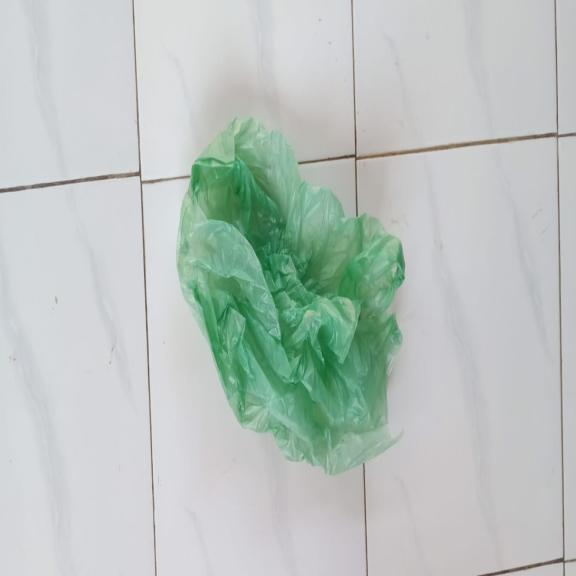Plastik: (176, 116, 407, 476)
